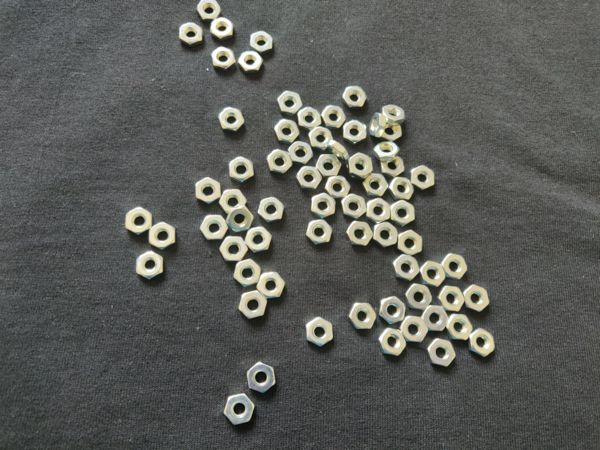nut: (224, 394, 255, 425), (247, 362, 275, 394), (428, 338, 456, 367), (378, 296, 406, 325), (233, 259, 262, 287), (306, 317, 333, 347), (348, 303, 378, 330), (256, 272, 286, 299), (239, 291, 267, 319), (136, 252, 164, 280), (125, 207, 153, 235), (404, 284, 433, 311), (446, 315, 474, 342), (379, 329, 407, 356), (226, 207, 254, 234), (470, 328, 496, 357), (400, 317, 429, 343), (245, 226, 272, 253), (306, 219, 333, 246), (420, 261, 446, 289), (149, 222, 175, 250), (346, 221, 374, 247), (437, 287, 466, 312), (220, 237, 249, 262), (200, 215, 229, 240), (422, 306, 449, 332), (464, 285, 490, 312), (393, 255, 420, 281), (229, 156, 255, 183), (219, 189, 247, 214), (373, 222, 399, 248), (348, 153, 374, 179), (442, 253, 467, 280), (196, 177, 221, 204), (218, 107, 246, 131), (258, 197, 284, 222), (398, 230, 423, 256), (310, 193, 336, 218), (367, 198, 392, 224), (342, 194, 367, 220), (391, 200, 415, 227), (267, 150, 293, 174), (321, 105, 347, 129), (362, 174, 389, 197), (275, 119, 300, 143), (297, 107, 322, 131), (211, 46, 236, 70), (296, 166, 322, 189), (325, 176, 352, 198), (309, 127, 333, 151), (179, 22, 203, 46), (412, 166, 435, 191), (289, 142, 314, 165), (278, 92, 303, 115), (389, 177, 415, 199), (316, 155, 342, 177), (380, 156, 405, 178), (344, 121, 367, 144), (327, 141, 349, 165), (239, 51, 264, 72), (373, 143, 400, 162), (250, 31, 273, 53), (211, 18, 234, 40), (343, 86, 367, 107), (380, 105, 405, 125), (198, 0, 222, 20), (370, 113, 387, 137), (382, 124, 402, 142)
